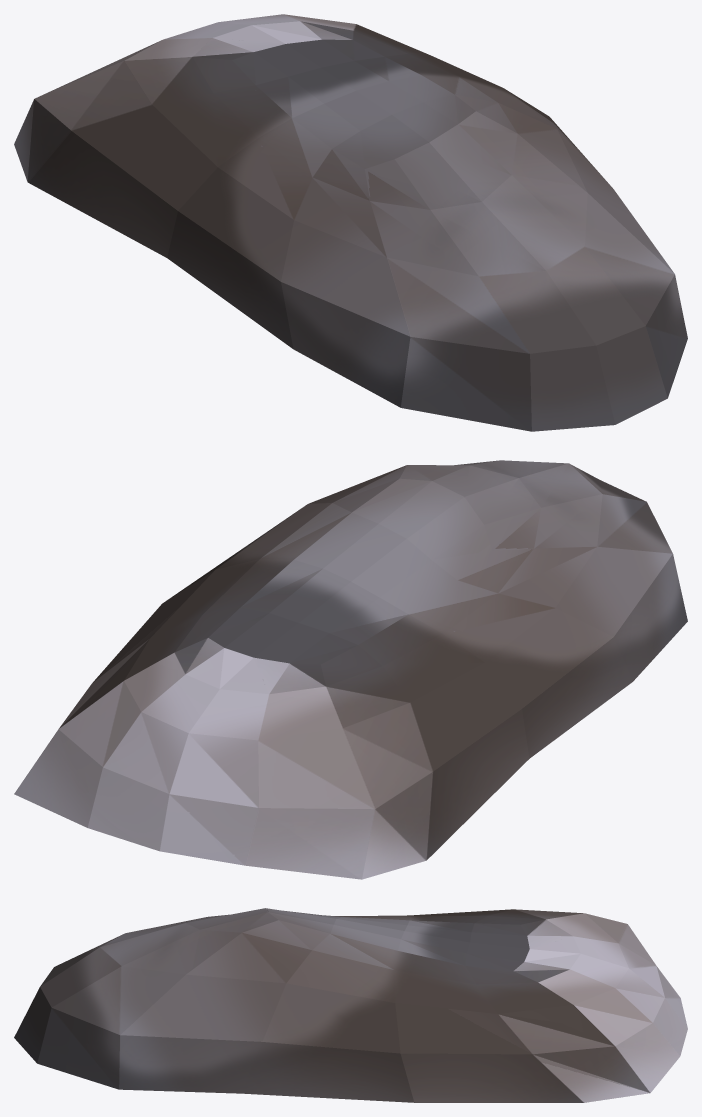
Rendered from Rock5.obj.
3 views of the same model, one above another, from view 1: azimuth 30°, elevation 25°; view 2: azimuth 150°, elevation 25°; view 3: azimuth 270°, elevation 25° (orthographic). The views are drawn at different scales.
Parts seen in each view (by area): view 1: Rock-3_Cube.003; view 2: Rock-3_Cube.003; view 3: Rock-3_Cube.003.
Boxes of the visible parts, box(x1,y1,x2,y2) form: Rock-3_Cube.003: box(14, 14, 687, 431); Rock-3_Cube.003: box(14, 460, 687, 879); Rock-3_Cube.003: box(14, 908, 687, 1102).
Size of the model in its own units: 2.74 by 1.2 by 5.29.
